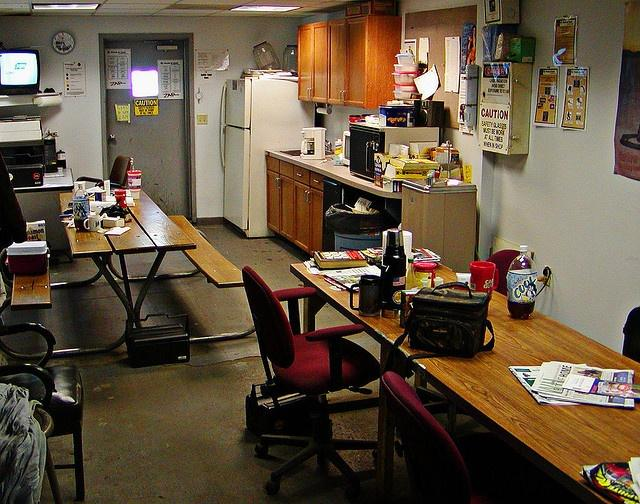Kursi: (242, 265, 382, 483)
Lemari: (297, 12, 403, 109)
Meja: (56, 184, 198, 262)
